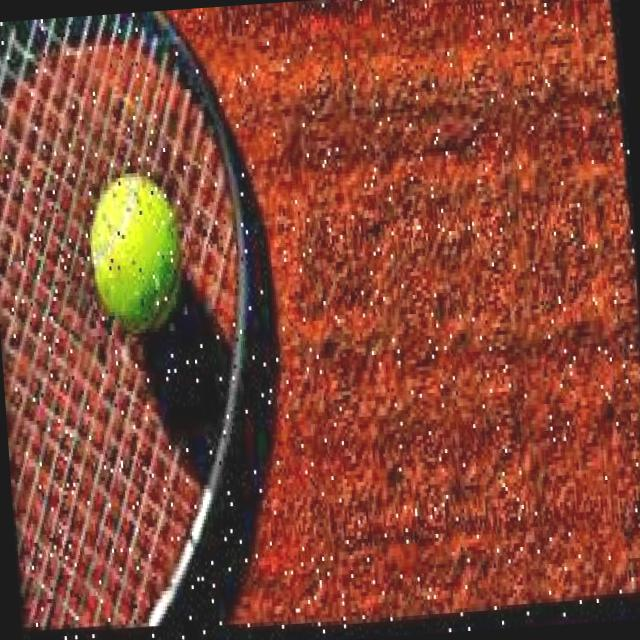Tennis Ball: (78, 172, 200, 374)
